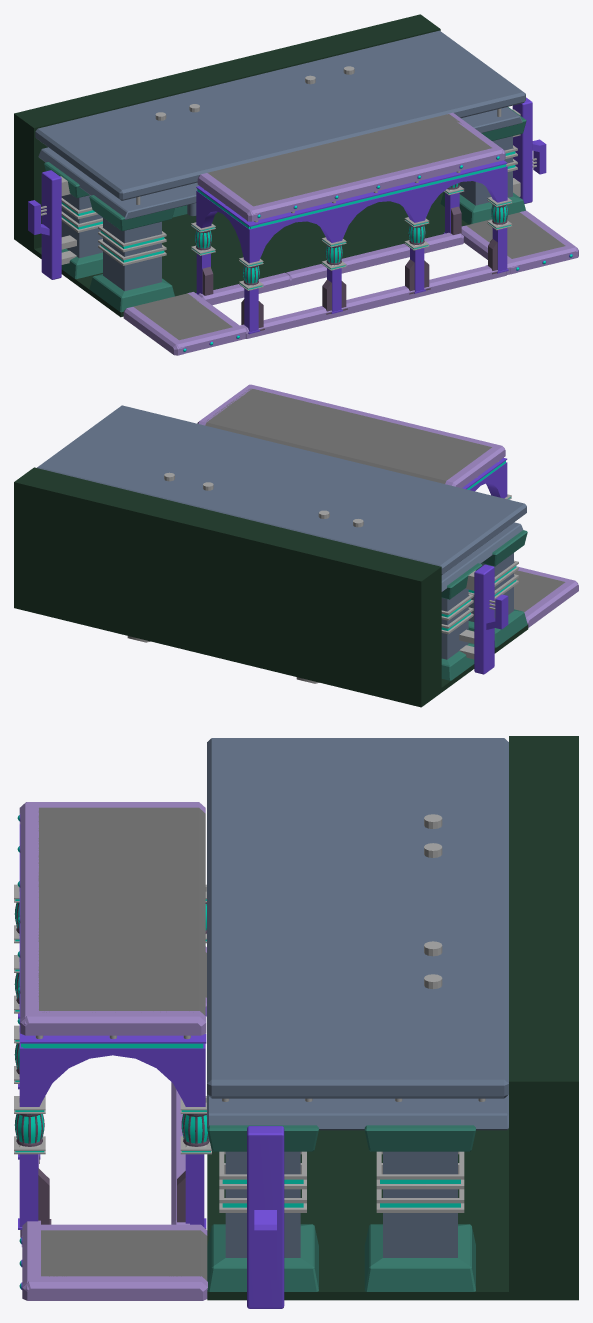
Rendered from Courtyard_UV.fbx.
3 views of the same model, one above another, from view 1: azimuth 30°, elevation 25°; view 2: azimuth 150°, elevation 25°; view 3: azimuth 270°, elevation 25° (orthographic). The views are drawn at different scales.
Parts seen in each view (by area): view 1: Courtyard_UV; view 2: Courtyard_UV; view 3: Courtyard_UV.
Part boxes in pixels (bbox=[...]): Courtyard_UV: bbox=[14, 14, 578, 355]; Courtyard_UV: bbox=[14, 384, 578, 707]; Courtyard_UV: bbox=[14, 736, 578, 1308].
Bounding box in the file's own units: 2555 × 722 × 1521.
